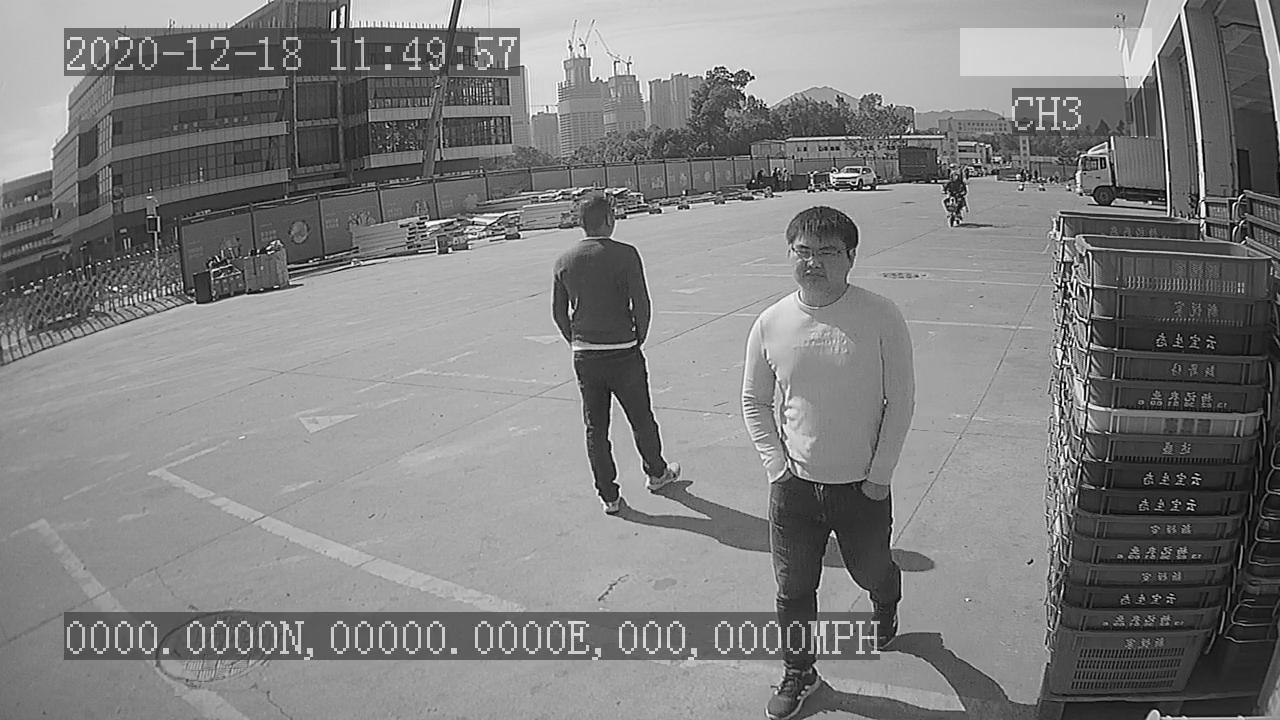person: (545, 195, 686, 524)
